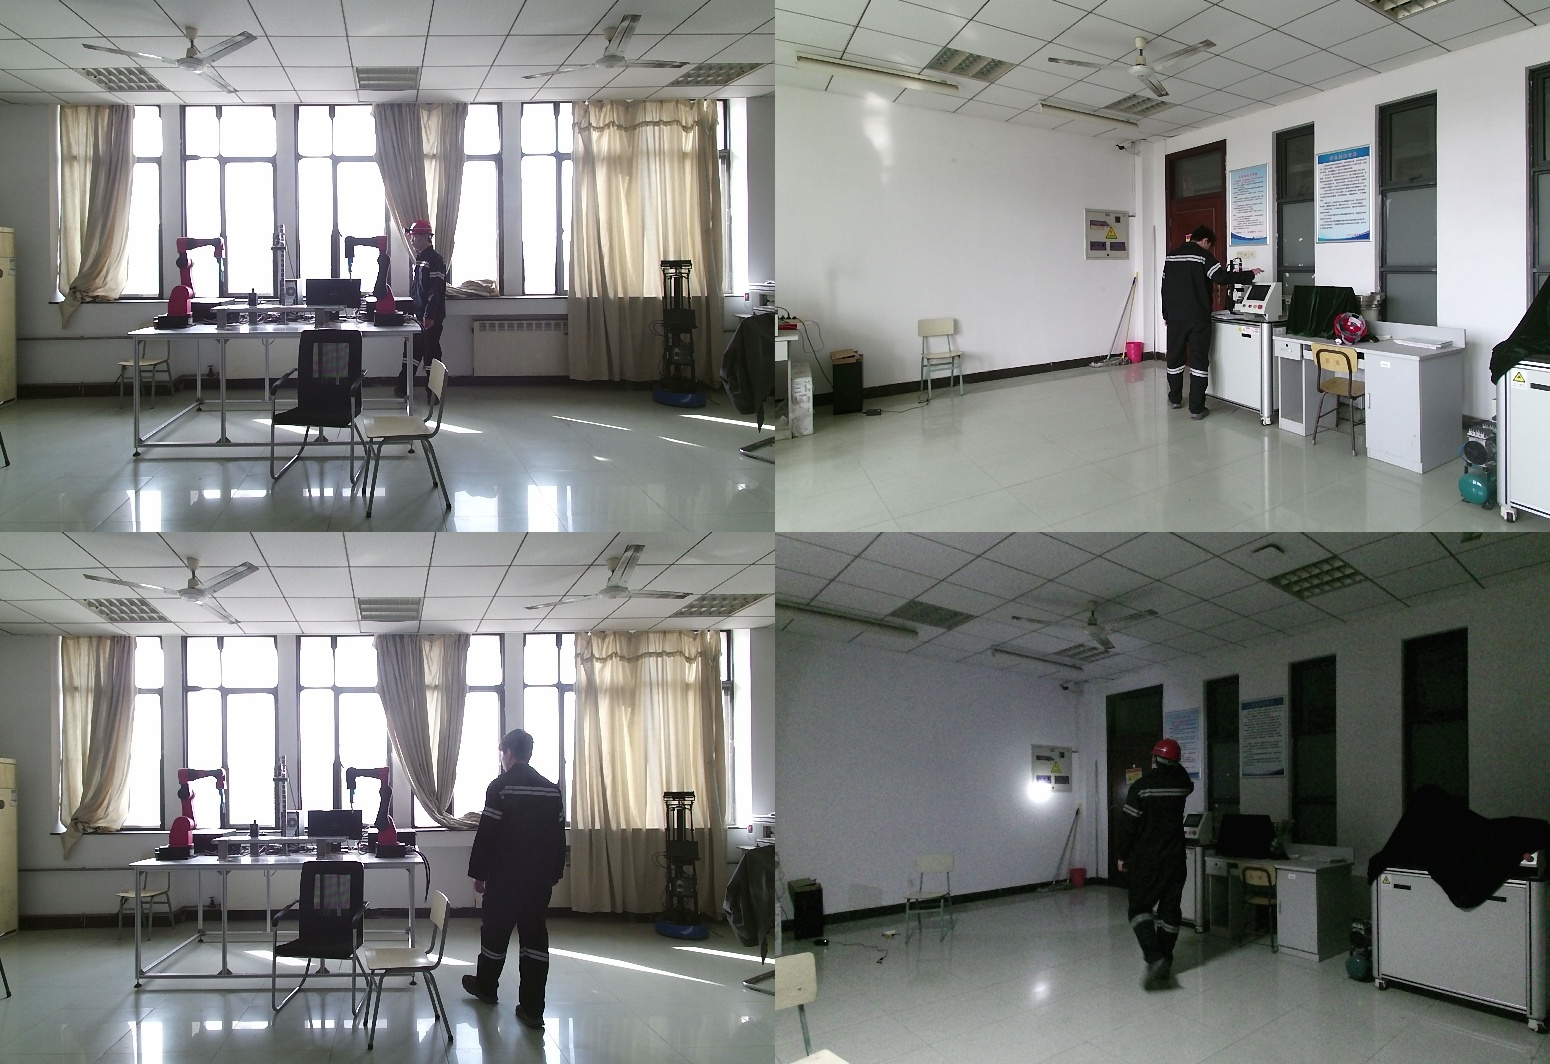person: (461, 732, 574, 1026), (1113, 738, 1202, 997), (1161, 231, 1275, 420), (398, 220, 453, 402)
